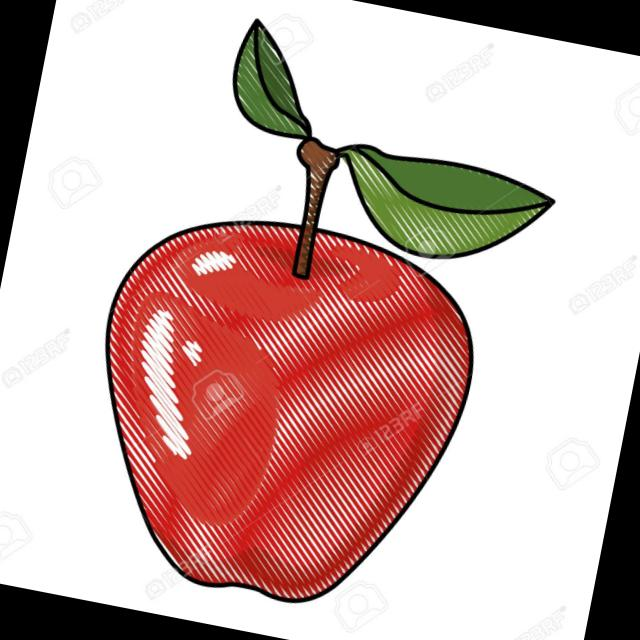apple: (68, 190, 488, 628)
